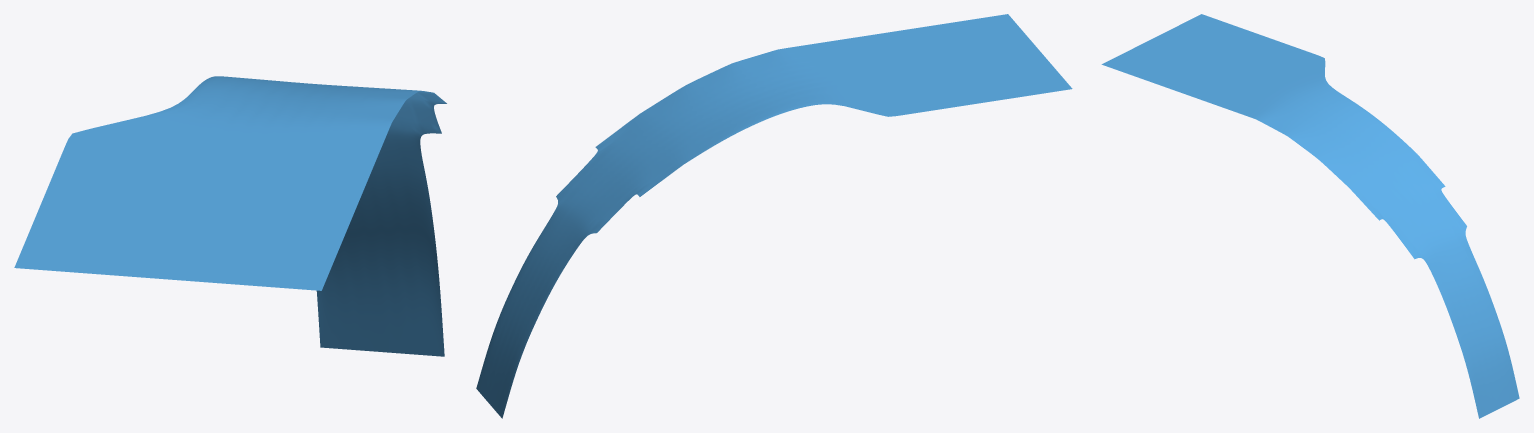
3 views of the same model, side by side, from view 1: azimuth 30°, elevation 25°; view 2: azimuth 150°, elevation 25°; view 3: azimuth 270°, elevation 25° (orthographic). The views are drawn at different scales.
Visible parts, largest first — view 1: water.001; view 2: water.001; view 3: water.001.
Boxes of the visible parts, x1=… form: water.001: x1=14, y1=76, x2=446, y2=356; water.001: x1=476, y1=14, x2=1072, y2=418; water.001: x1=1101, y1=14, x2=1519, y2=418.
Size of the model in its own units: 4641 by 2910 by 4750.
